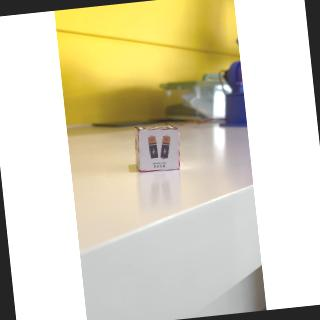Used_Battery: (134, 131, 183, 173)
